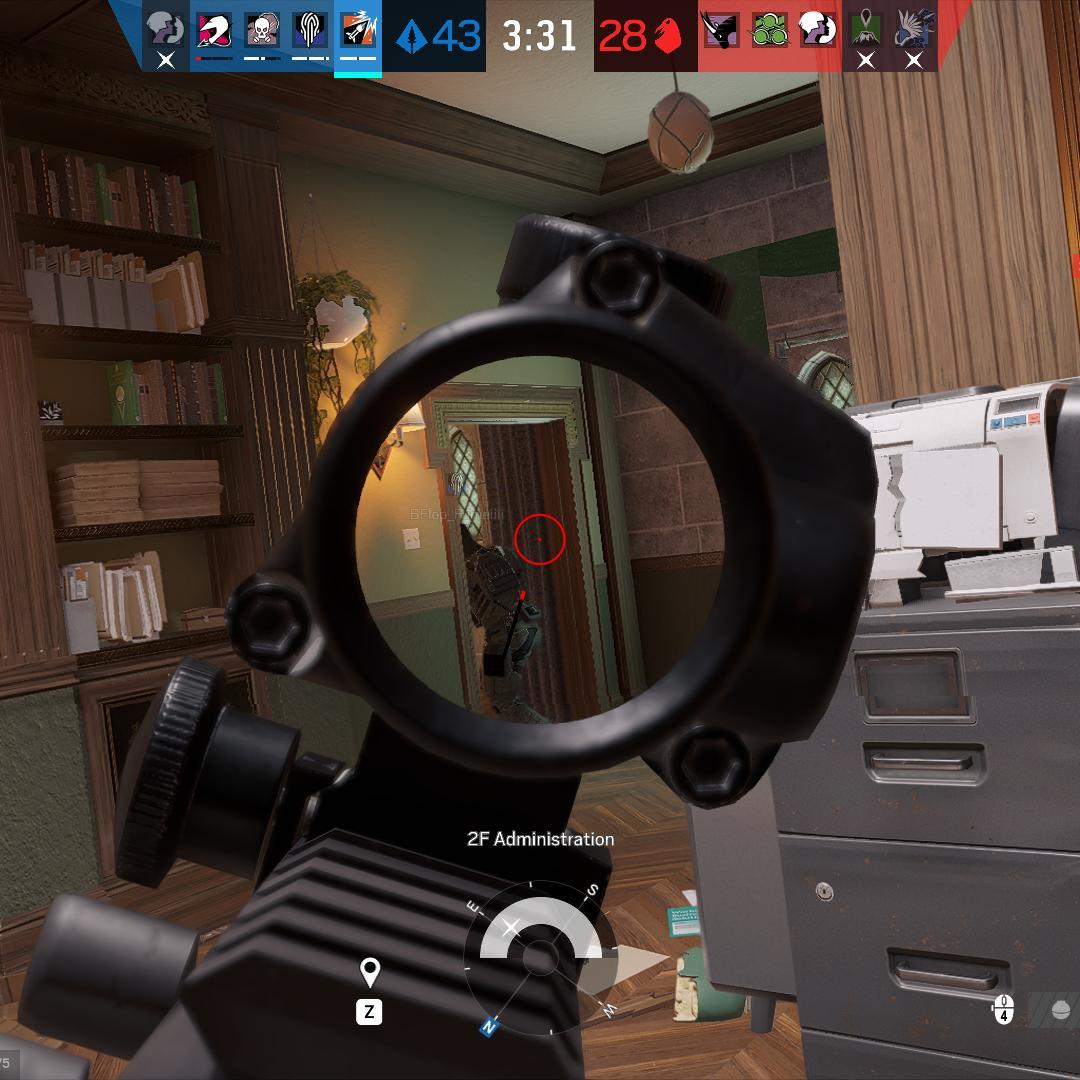Character: (457, 523, 552, 726)
Friend_label: (410, 469, 509, 524)
